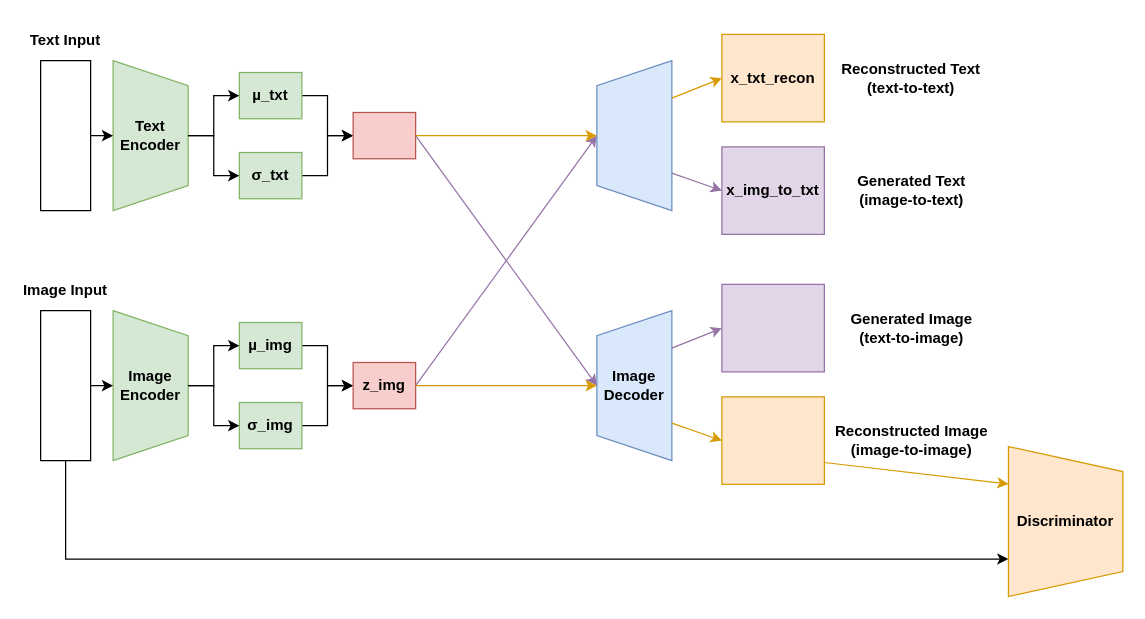
This 1145x619 diagram has some shape labels left out. Here are the shapes that lost their labels. From the top down, the centre of each, then its label:
the point at 65,135: x_txt
the point at 384,135: z_txt
the point at 634,135: Text Decoder
the point at 772,327: x_txt_to_img
the point at 65,385: x_img
the point at 772,440: x_img_recon
